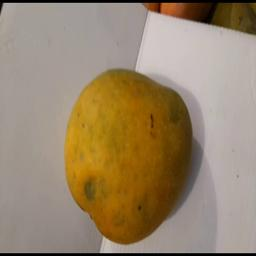Mango Fresh: (48, 62, 199, 244)
